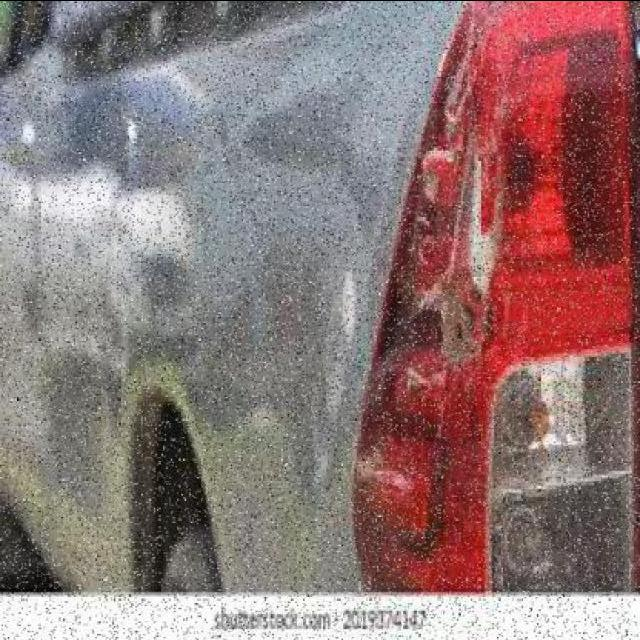Taillight-Damage: (348, 0, 638, 600)
